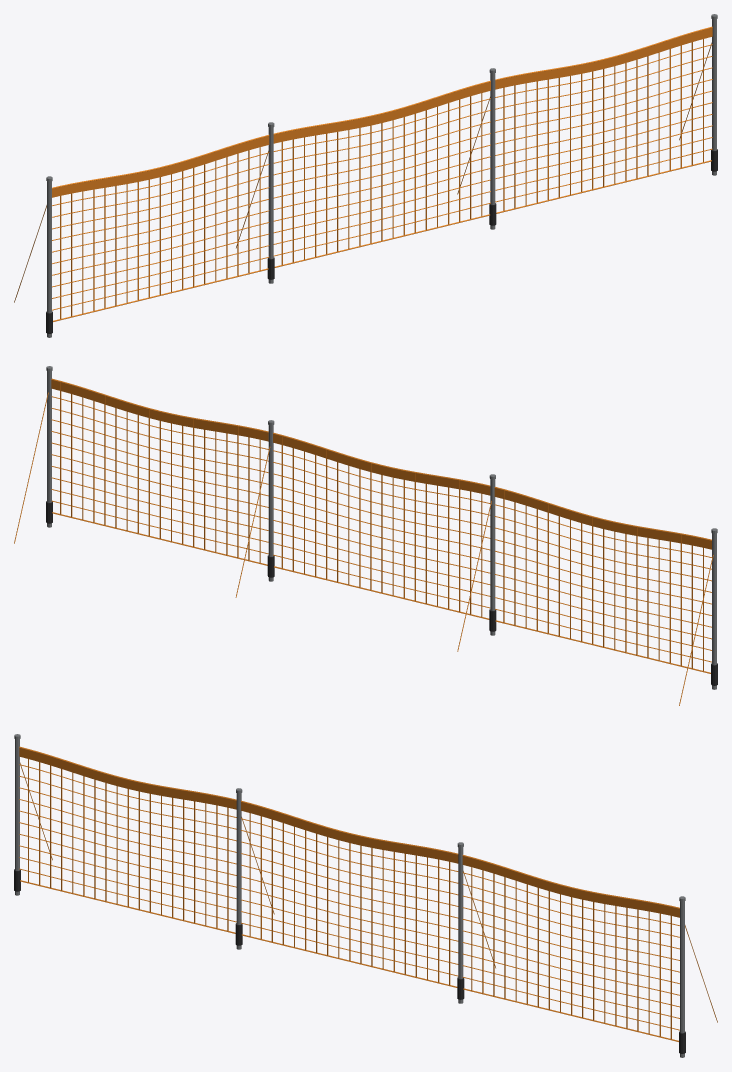
Rendered from netting.glb.
The picture shows the model from 3 angles, top to bottom: view 1: azimuth 30°, elevation 25°; view 2: azimuth 150°, elevation 25°; view 3: azimuth 330°, elevation 25°; orthographic projection.
Visible parts, largest first — view 1: netting; view 2: netting; view 3: netting.
Part boxes in pixels (bbox=[...]): netting: bbox=[14, 14, 717, 337]; netting: bbox=[14, 366, 717, 705]; netting: bbox=[14, 734, 717, 1057].
Bounding box in the file's own units: 12.1 × 2.74 × 1.16.
